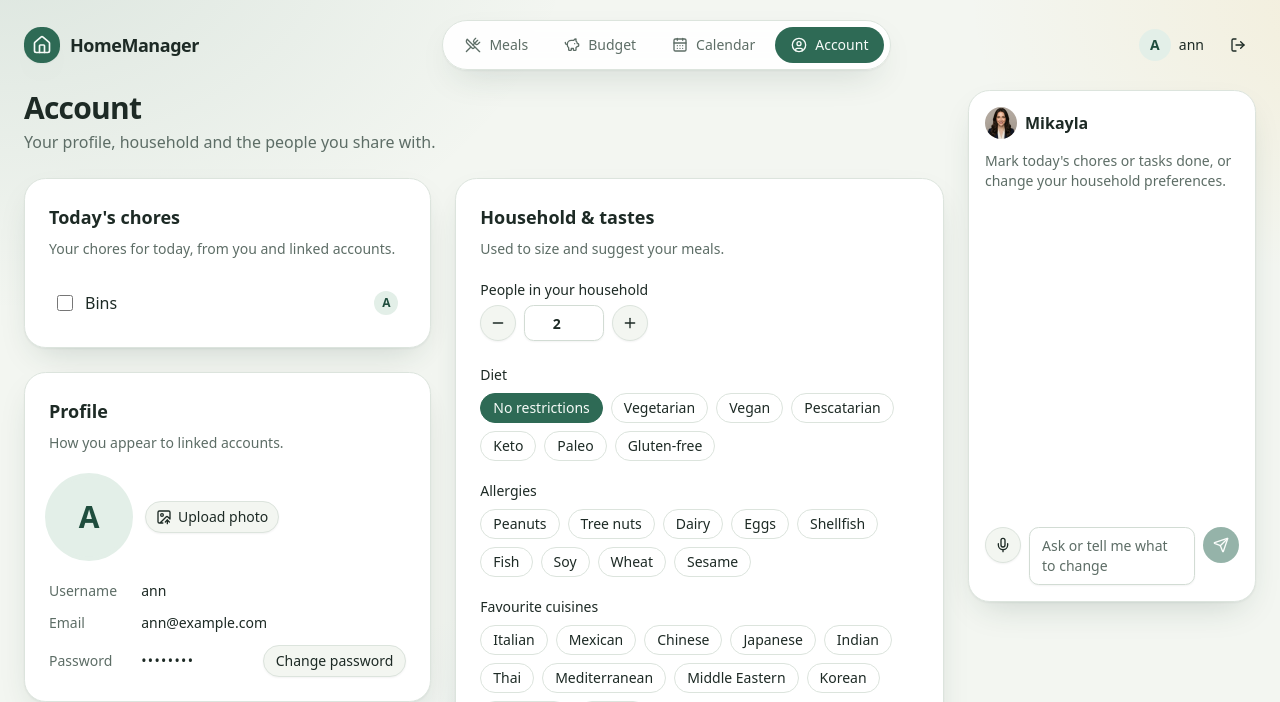
Test: AccountPage › shows preferences and chores the assistant changed
expect the checkbox labelled "Bins" is not checked: met, box [57,295,73,311]
Type "We are 4 now and bins are done" into the text box named "Message Mikayla" at (1112, 556), box [1029,527,1195,585]
Then press Enter
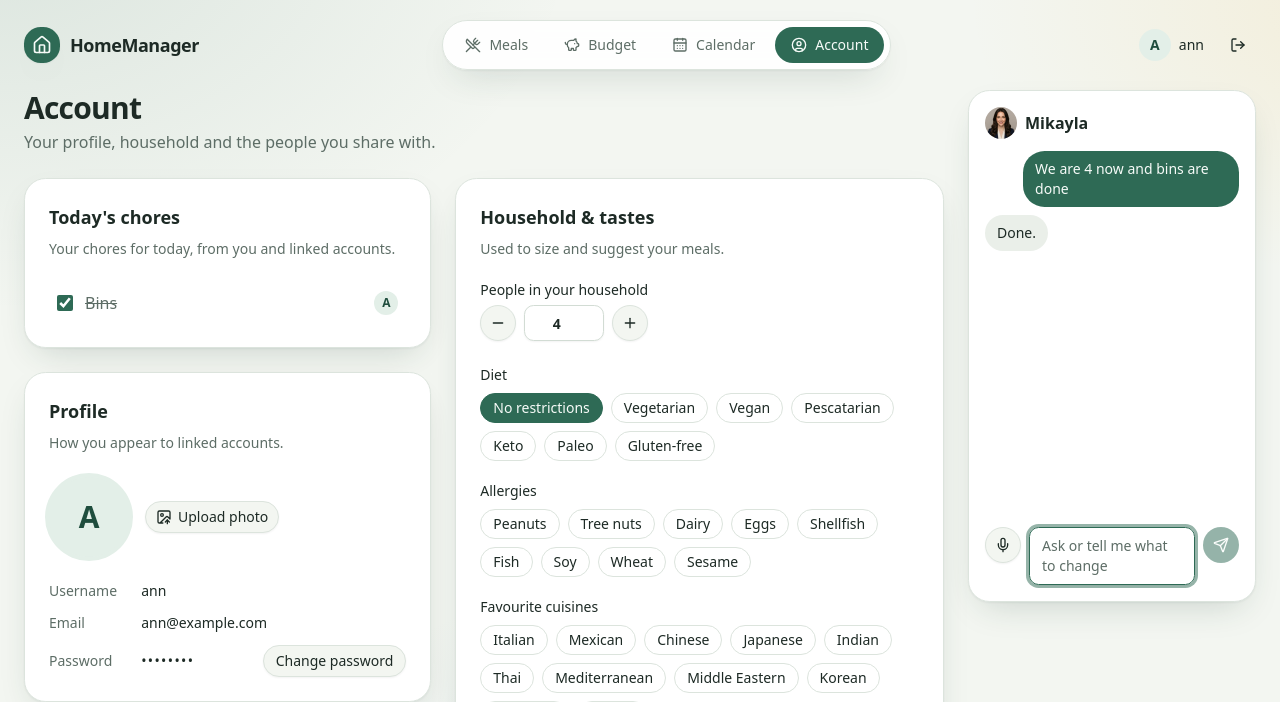
expect the checkbox labelled "Bins" is shown: met, box [57,295,73,311]
expect the list item "Done." is shown: met, box [985,215,1048,251]
